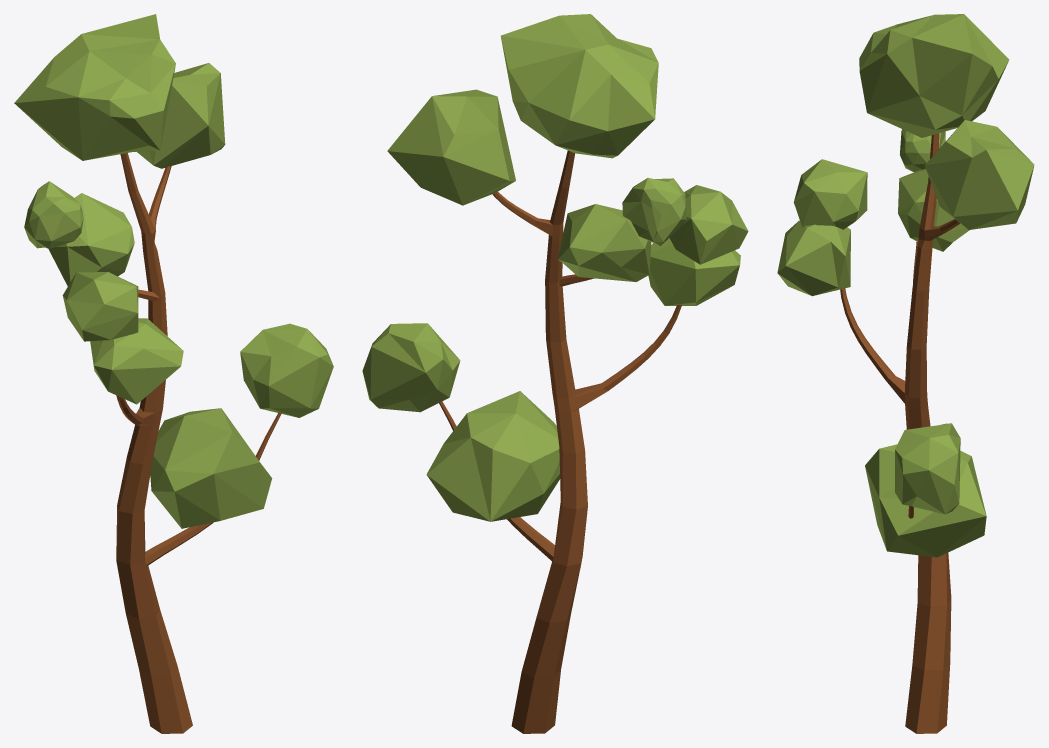
File: Drzewo7.fbx
The picture shows the model from 3 angles, left to right: view 1: azimuth 30°, elevation 25°; view 2: azimuth 150°, elevation 25°; view 3: azimuth 270°, elevation 25°; orthographic projection. The views are drawn at different scales.
Visible parts, largest first — view 1: Cylinder.017; view 2: Cylinder.017; view 3: Cylinder.017.
Part boxes in pixels (<box>): Cylinder.017: <box>14,14,333,733</box>; Cylinder.017: <box>362,14,748,733</box>; Cylinder.017: <box>777,14,1034,733</box>.
Bounding box in the file's own units: 2122 × 4605 × 1579.
